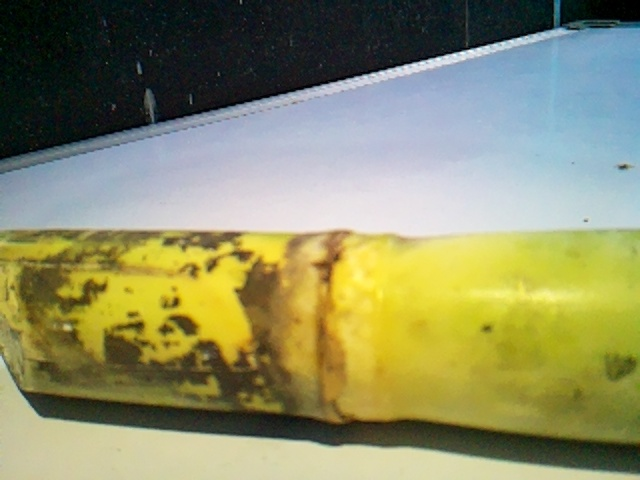Good Sugarcane: (0, 223, 636, 444)
Node: (272, 223, 385, 430)
